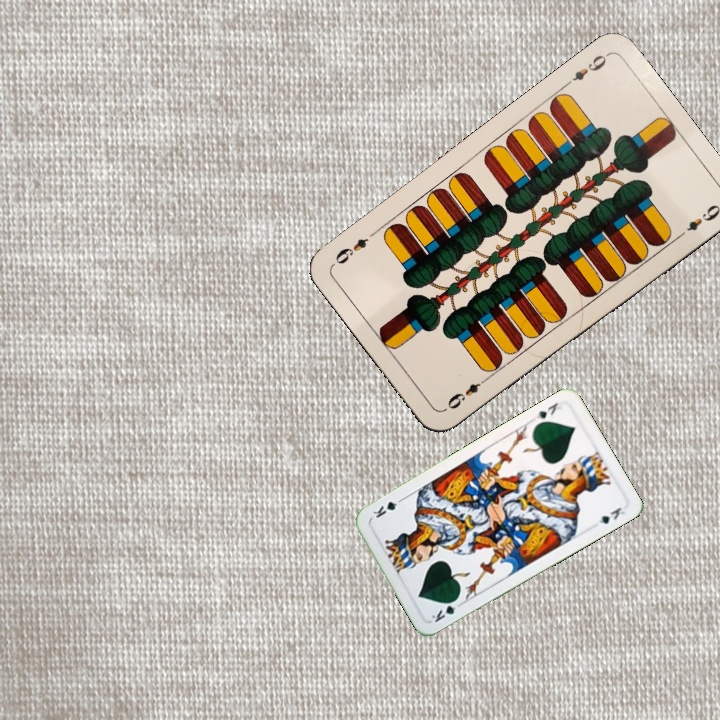E9: (441, 373, 492, 413), (560, 50, 611, 90)
GK: (427, 594, 465, 625), (532, 398, 567, 423)
